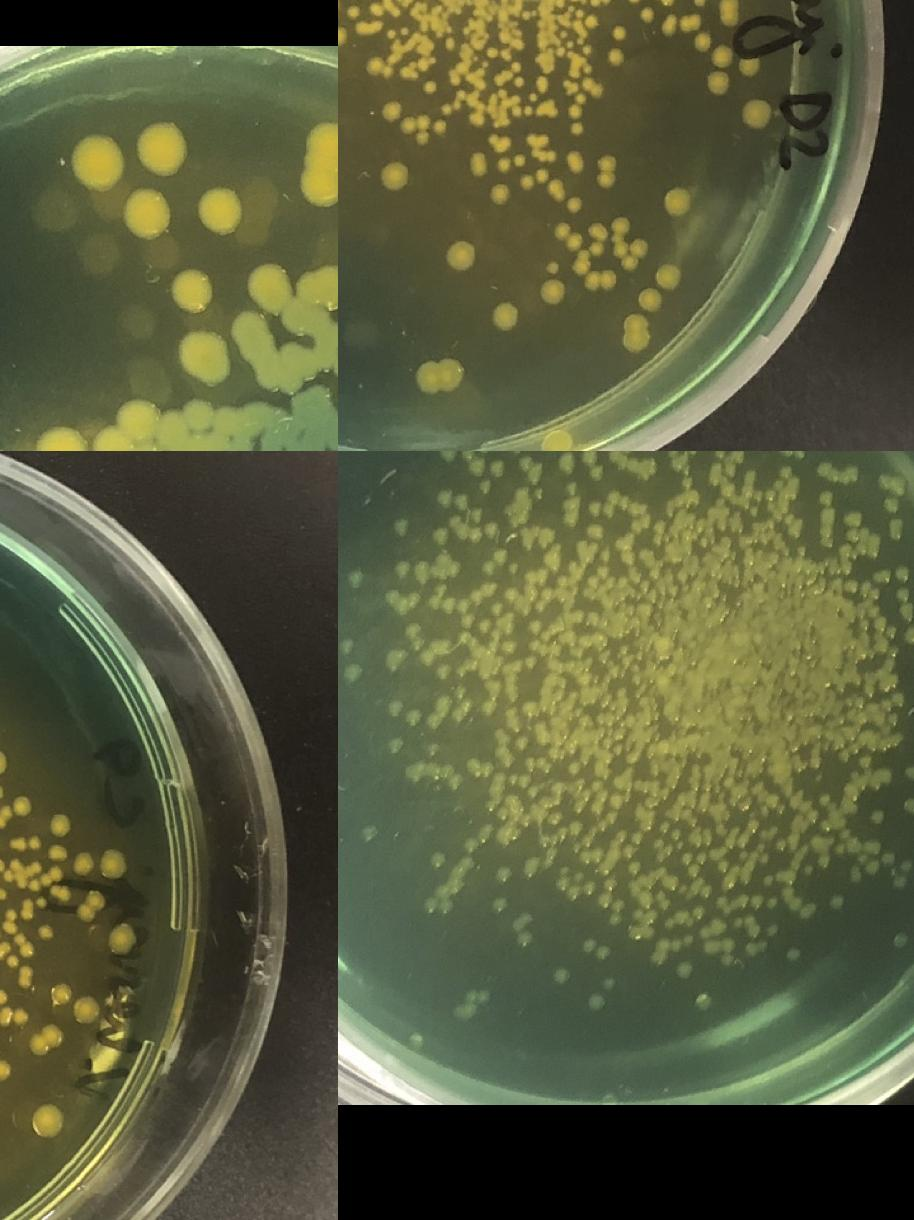valgino: (92, 396, 237, 451), (279, 267, 338, 334), (257, 341, 320, 394), (301, 122, 338, 205), (179, 332, 228, 386), (137, 123, 186, 175), (122, 189, 171, 240), (74, 135, 120, 188), (172, 272, 212, 312), (248, 266, 288, 306), (198, 190, 238, 228), (37, 425, 87, 451), (231, 312, 266, 348), (273, 415, 297, 439), (320, 324, 338, 348), (229, 436, 253, 451), (331, 354, 338, 377)
vangil: (698, 920, 735, 969), (552, 864, 596, 902), (650, 933, 696, 965), (427, 582, 468, 613), (594, 892, 626, 928), (590, 491, 630, 518), (627, 910, 658, 940), (450, 686, 475, 722), (580, 936, 612, 962), (584, 564, 616, 590), (479, 548, 506, 578), (612, 532, 636, 564), (510, 915, 533, 947), (385, 590, 420, 611), (680, 851, 708, 877), (761, 868, 797, 888), (877, 472, 906, 494), (895, 586, 914, 618), (658, 819, 684, 842), (662, 875, 690, 896), (662, 910, 686, 932), (456, 615, 474, 644), (469, 583, 495, 602), (454, 524, 481, 542), (742, 940, 769, 958), (534, 587, 552, 613), (734, 893, 763, 909), (466, 758, 492, 775), (650, 838, 666, 865), (730, 914, 756, 930), (522, 755, 548, 770), (844, 510, 862, 528), (420, 897, 438, 913), (428, 850, 446, 866), (434, 664, 452, 680), (434, 490, 452, 506), (588, 465, 606, 481), (391, 518, 408, 534), (394, 560, 411, 576), (475, 988, 492, 1004), (513, 735, 530, 751), (552, 968, 569, 984), (598, 976, 615, 992), (856, 753, 873, 769), (883, 496, 900, 512), (894, 566, 911, 582), (386, 700, 402, 716), (418, 650, 434, 666), (588, 994, 604, 1010), (602, 876, 618, 892), (676, 962, 692, 978), (690, 905, 706, 921), (694, 993, 710, 1009), (818, 490, 834, 506), (828, 895, 844, 911), (868, 808, 884, 824), (892, 932, 908, 948), (459, 1002, 474, 1019), (495, 867, 510, 884), (527, 617, 542, 634), (903, 622, 914, 645), (361, 825, 376, 841), (455, 493, 470, 509), (462, 838, 478, 853), (558, 455, 574, 470), (786, 947, 801, 963), (818, 461, 833, 477), (888, 524, 903, 540), (489, 461, 504, 476), (346, 665, 360, 681), (388, 737, 402, 753), (406, 709, 420, 725), (476, 480, 492, 494), (492, 897, 506, 913), (876, 768, 890, 784), (580, 451, 597, 464), (431, 530, 446, 544), (470, 461, 484, 476), (566, 762, 580, 777), (890, 691, 904, 706), (435, 698, 449, 712), (477, 618, 491, 632), (481, 700, 495, 714), (484, 522, 498, 536), (496, 807, 510, 821), (502, 640, 516, 654), (503, 586, 517, 600), (506, 562, 520, 576), (517, 774, 531, 788), (522, 570, 536, 584), (523, 654, 537, 668), (531, 487, 545, 501), (563, 512, 577, 526), (567, 820, 581, 834), (588, 801, 602, 815), (588, 778, 602, 792), (598, 548, 612, 562), (602, 712, 616, 726), (608, 794, 622, 808), (612, 776, 626, 790), (613, 829, 627, 843), (620, 846, 634, 860), (624, 751, 638, 765), (626, 862, 640, 876), (630, 830, 644, 844), (637, 892, 651, 906), (678, 809, 692, 823), (715, 895, 729, 909), (715, 860, 729, 874), (742, 469, 756, 483), (758, 851, 772, 865), (764, 924, 778, 938), (765, 794, 779, 808), (766, 896, 780, 910), (773, 838, 787, 852), (788, 897, 802, 911), (816, 854, 830, 868), (864, 860, 878, 874), (864, 840, 878, 854), (879, 852, 893, 866), (890, 876, 904, 890), (842, 580, 858, 592), (470, 509, 484, 522), (490, 602, 504, 615), (564, 480, 578, 493), (698, 884, 712, 897), (801, 864, 815, 877), (832, 843, 846, 856), (903, 797, 914, 813), (517, 456, 531, 468), (520, 702, 534, 714), (588, 526, 602, 538), (818, 792, 830, 806), (903, 765, 914, 780), (586, 612, 598, 625), (459, 451, 474, 461), (441, 451, 456, 458), (665, 451, 679, 458), (777, 451, 794, 456), (686, 451, 700, 454)
vharveyi: (412, 357, 464, 395), (401, 112, 447, 146), (0, 783, 32, 831), (572, 256, 616, 290), (608, 237, 648, 274), (26, 1021, 66, 1058), (692, 32, 732, 68), (30, 1101, 66, 1141), (622, 313, 650, 353), (74, 889, 104, 925), (99, 845, 128, 882), (443, 240, 476, 272), (377, 160, 409, 192), (490, 302, 521, 334), (70, 994, 101, 1026), (741, 99, 772, 130), (660, 186, 692, 216), (106, 923, 136, 955), (552, 222, 583, 252), (594, 154, 618, 190), (538, 277, 566, 307), (492, 61, 524, 87), (654, 262, 682, 290), (636, 286, 664, 312), (704, 70, 732, 96), (586, 222, 606, 258), (518, 168, 549, 190), (495, 154, 526, 175), (47, 980, 70, 1007), (47, 811, 70, 838), (378, 100, 402, 125), (70, 852, 94, 876), (566, 104, 583, 136), (16, 965, 34, 990), (0, 1049, 13, 1082), (606, 47, 626, 67), (608, 215, 628, 235), (35, 923, 55, 943), (12, 1006, 30, 1026), (486, 46, 510, 59), (510, 105, 534, 118), (0, 746, 9, 778), (610, 24, 626, 40), (566, 197, 582, 212), (422, 80, 437, 95), (638, 8, 654, 22), (33, 896, 48, 910), (338, 24, 347, 46), (544, 261, 558, 275), (2, 908, 16, 922), (5, 954, 19, 968), (27, 878, 41, 892), (588, 0, 611, 8), (345, 5, 359, 18), (536, 134, 550, 146), (12, 933, 24, 947), (648, 0, 674, 6), (1, 869, 13, 882), (580, 45, 592, 57), (690, 0, 705, 8), (0, 889, 6, 901)
